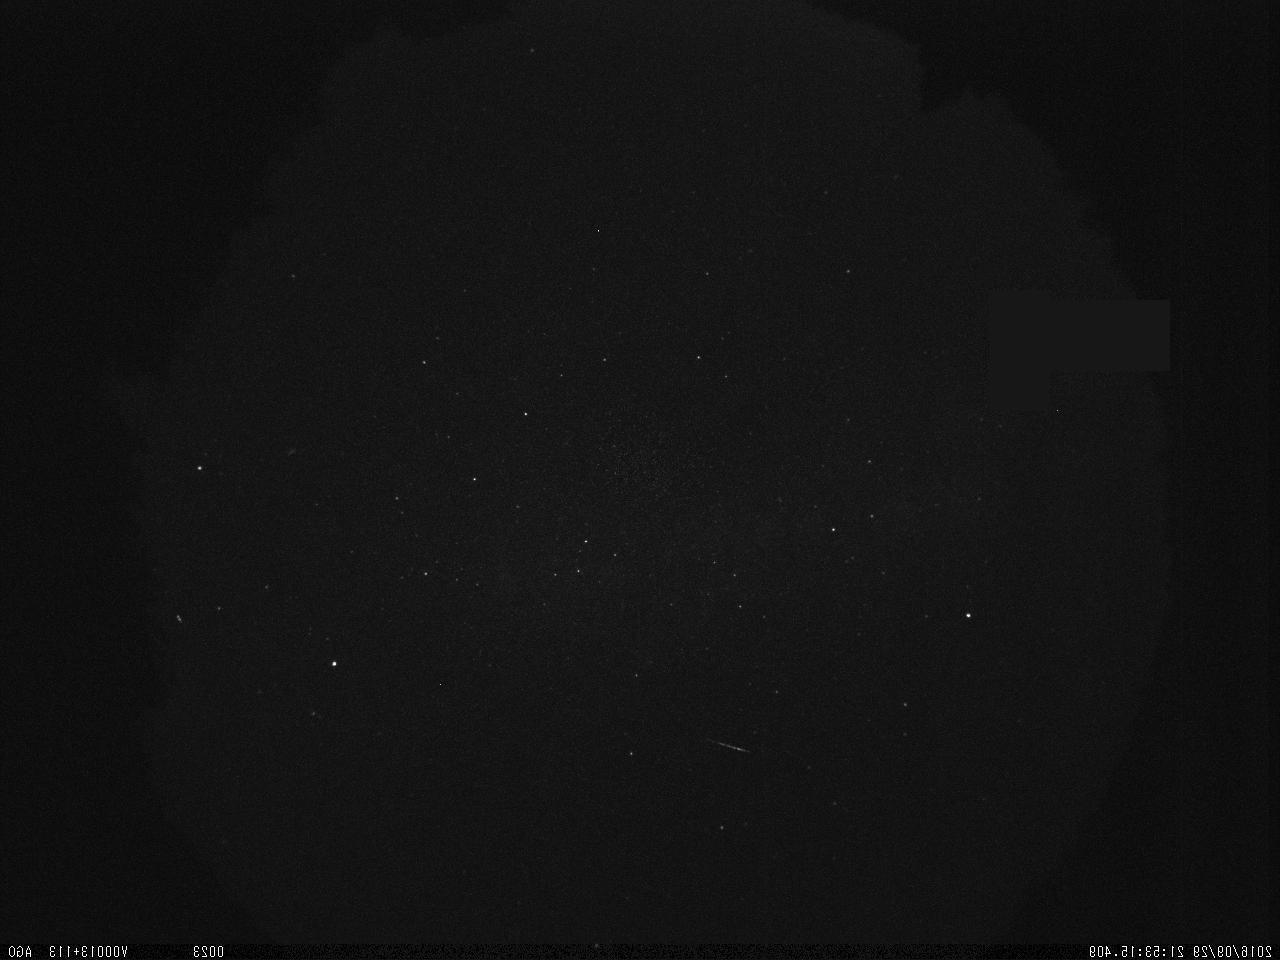meteor: (688, 729, 758, 766)
